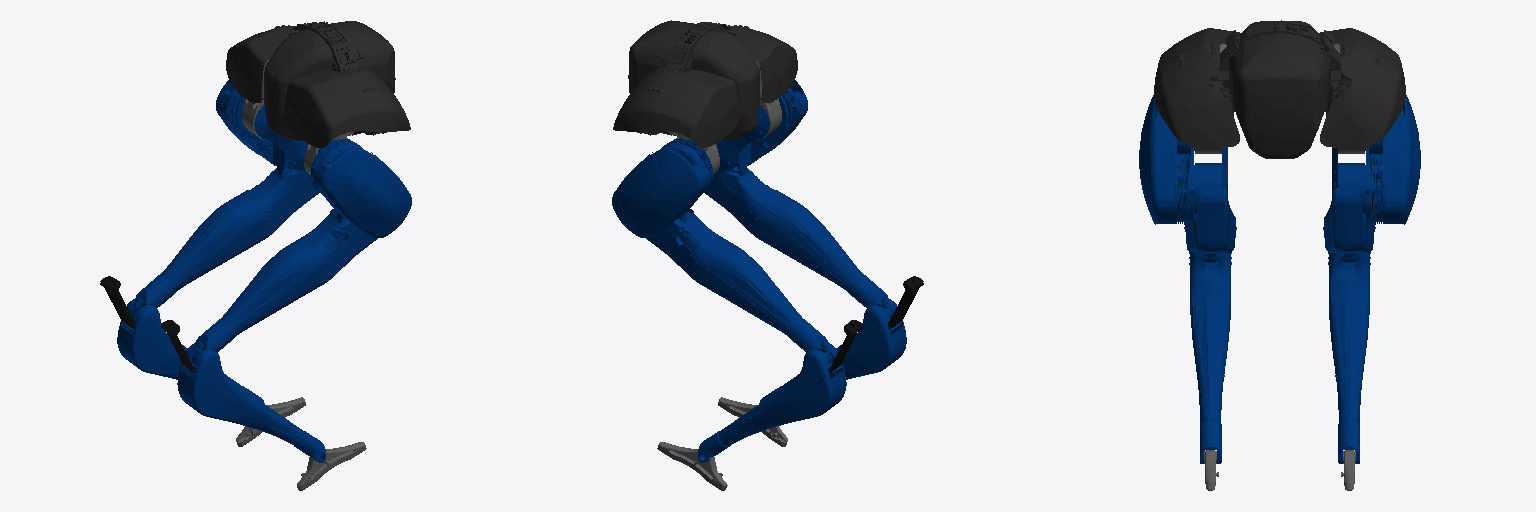
--- Render facts (derived) ---
3 views of the same robot in one strip: view 1: azimuth 30°, elevation 25°; view 2: azimuth 150°, elevation 25°; view 3: azimuth 270°, elevation 25° (orthographic).
Robot: cassie — 23 links, 22 joints (16 revolute, 6 fixed); root link pelvis; default pose: joints at zero except 8 at the middle of their limits (hip_pitch_left = 0.72, hip_pitch_right = 0.72, knee_left = -1.75, knee_right = -1.75, ankle_joint_left = 1.9, ankle_joint_right = 1.9, +2 more).
Links seen in each view (by area): view 1: pelvis, shin_left, shin_right, thigh_right, tarsus_right, tarsus_left, thigh_left, toe_right, toe_left, heel_spring_left, heel_spring_right; view 2: pelvis, shin_right, shin_left, thigh_left, tarsus_left, tarsus_right, thigh_right, toe_left, toe_right, heel_spring_right, heel_spring_left; view 3: pelvis, tarsus_left, tarsus_right, thigh_left, thigh_right, shin_left, shin_right, knee_left, knee_right.
Link boxes in pixels (box(x1,y1,x2,y2)): pelvis: box(226, 21, 410, 148); shin_left: box(132, 168, 319, 318); shin_right: box(192, 209, 377, 364); thigh_right: box(311, 139, 411, 237); tarsus_right: box(177, 343, 325, 462); tarsus_left: box(117, 299, 264, 403); thigh_left: box(216, 80, 307, 169); toe_right: box(297, 442, 366, 490); toe_left: box(236, 397, 305, 446); heel_spring_left: box(100, 276, 135, 329); heel_spring_right: box(161, 320, 195, 372); pelvis: box(613, 20, 797, 148); shin_right: box(704, 168, 891, 318); shin_left: box(646, 209, 831, 364); thigh_left: box(612, 139, 712, 237); tarsus_left: box(698, 343, 846, 462); tarsus_right: box(759, 299, 906, 403); thigh_right: box(716, 80, 807, 169); toe_left: box(657, 442, 727, 490); toe_right: box(718, 397, 787, 446); heel_spring_right: box(888, 276, 923, 329); heel_spring_left: box(828, 320, 862, 372); pelvis: box(1154, 20, 1405, 158); tarsus_left: box(1328, 252, 1370, 463); tarsus_right: box(1189, 252, 1231, 463); thigh_left: box(1332, 95, 1420, 224); thigh_right: box(1139, 95, 1227, 224); shin_left: box(1323, 187, 1375, 262); shin_right: box(1184, 187, 1236, 262); knee_left: box(1338, 163, 1364, 219); knee_right: box(1195, 163, 1221, 219).
Size in the robot's own frame: 0.6197 by 0.53 by 1.02 metres.
19 mesh visuals loaded from 14 distinct referenced files (14 OBJ).

The robot description file, URDF, robot "cassie":
<robot name="cassie">

    <link name="pelvis">
        <inertial>
            <origin
                    xyz=".05066 0.000346 .02841"
                    rpy="0 0 0" />
            <mass value="10.33" />
            <inertia
                    ixx=".094158"
                    ixy=".0001685"
                    ixz=".015026"
                    iyy=".084066"
                    iyz=".0005156"
                    izz=".112770" />
        </inertial>
        <visual>
            <origin
                    xyz="0 0 0"
                    rpy="1.570796 0 0" />
            <geometry>
                <mesh filename="meshes/agility/pelvis.obj" />
            </geometry>
            <material name="">
                <color
                        rgba="0.2 0.2 0.2 1.0" />
            </material>
        </visual>

        <collision>
            <geometry>
                <sphere radius="0.2"/>
            </geometry>
            <origin xyz="0.05 0 0" rpy="0 0 0" />
        </collision>
    </link>

    <link name="yaw_left">
        <inertial>
            <origin
                    xyz=".0257 0.0001 .0179"
                    rpy="0 -1.570796 0" />
            <mass value="1.82" />
            <inertia
                    ixx=".002722"
                    ixy=".000000703"
                    ixz=".00000153"
                    iyy=".005586"
                    iyz=".00000261"
                    izz=".004638" />
        </inertial>
        <visual>
            <origin
                    xyz="0 0 -0.07"
                    rpy="0 -1.570796 0" />
            <geometry>
                <mesh filename="meshes/agility/left_yaw.obj" />
            </geometry>
            <material name="">
                <color rgba="0.4 0.4 0.4 1" />
            </material>
        </visual>
    </link>

    <link name="yaw_right">
        <inertial>
            <origin
                    xyz=".0257 -0.0001 .0179"
                    rpy="0 -1.570796 0" />
            <mass value="1.82" />
            <inertia
                    ixx=".002722"
                    ixy="-.000000703"
                    ixz=".00000153"
                    iyy=".005586"
                    iyz="-.00000261"
                    izz=".004638" />
        </inertial>
        <visual>
            <origin
                    xyz="0 0 -0.07"
                    rpy="0 -1.570796 0" />
            <geometry>
                <mesh filename="meshes/agility/right_yaw.obj" />
            </geometry>
            <material name="">
                <color rgba="0.4 0.4 0.4 1" />
            </material>
        </visual>
    </link>

    <link name="hip_left">
        <inertial>
            <origin
                    xyz="-.05572 0 0.00001"
                    rpy="-1.570796 1.570796 0" />
            <mass value="1.171" />
            <inertia
                    ixx=".000842"
                    ixy=".0000002462"
                    ixz="-.0000006251"
                    iyy=".006076"
                    iyz="-.00000004"
                    izz=".006436" />
        </inertial>
        <visual>
            <origin
                    xyz="0 0 -0.09"
                    rpy="-1.570796 1.570796 0" />
            <geometry>
                <mesh filename="meshes/agility/left_hip.obj" />
            </geometry>
            <material name="">
                <color rgba="0.4 0.4 0.4 1" />
            </material>
        </visual>
    </link>

    <link name="hip_right">
        <inertial>
            <origin
                    xyz="-.05572 0 -0.00001"
                    rpy="-1.570796 1.570796 0" />
            <mass value="1.171" />
            <inertia
                    ixx=".000842"
                    ixy=".0000002462"
                    ixz=".0000006251"
                    iyy=".006076"
                    iyz=".00000004"
                    izz=".006436" />
        </inertial>
        <visual>
            <origin
                    xyz="0 0 -0.09"
                    rpy="-1.570796 1.570796 0" />
            <geometry>
                <mesh filename="meshes/agility/right_hip.obj" />
            </geometry>
            <material name="">
                <color rgba="0.4 0.4 0.4 1" />
            </material>
        </visual>
    </link>

    <link name="thigh_left">
        <inertial>
            <origin
                    xyz="0.05946 0.00005 -.03581"
                    rpy="0 0 0" />
            <mass value="5.52" />
            <inertia
                    ixx=".017969"
                    ixy=".0002836"
                    ixz="-.011685"
                    iyy=".056284"
                    iyz="-.00001926"
                    izz=".049756" />
        </inertial>
        <visual>
            <origin
                    xyz="0 0 0"
                    rpy="1.570796 0 0" />
            <geometry>
                <mesh filename="meshes/agility/hip-pitch.obj" />
            </geometry>
            <material name="">
                <color rgba="0.024 0.24 0.5 1.0" />
            </material>
        </visual>

    </link>

    <link name="thigh_right">
        <inertial>
            <origin
                    xyz="0.05946 0.00005 .03581"
                    rpy="0 0 0" />
            <mass value="5.52" />
            <inertia
                    ixx=".017969"
                    ixy=".0002836"
                    ixz=".011685"
                    iyy=".056284"
                    iyz=".00001926"
                    izz=".049756" />
        </inertial>
        <visual>
            <origin
                    xyz="0 0 0"
                    rpy="-1.570796 3.14159 0" />
            <geometry>
                <mesh filename="meshes/agility/hip-pitch.obj"
                 scale="-1 -1 -1"/>
            </geometry>
            <material name="">
                <color rgba="0.024 0.24 0.5 1.0" />
            </material>
        </visual>

    </link>

    <link name="knee_left">
        <inertial>
            <origin
                    xyz="0.023 0.03207 -0.002181"
                    rpy="0 0 0" />
            <mass value="0.7578" />
            <inertia
                    ixx=".002159"
                    ixy=".0009564"
                    ixz=".000002837"
                    iyy=".001438"
                    iyz=".000000739"
                    izz=".003344" />
        </inertial>
        <visual>
            <origin
                    xyz="0 0 0"
                    rpy="0 0 0" />
            <geometry>
                <mesh filename="meshes/knee-output.obj" />
            </geometry>
            <material name="">
                <color rgba="0.024 0.24 0.5 1.0" />
            </material>
        </visual>
    </link>

    <link name="knee_right">
        <inertial>
            <origin
                    xyz="0.023 0.03207 0.002181"
                    rpy="0 0 0" />
            <mass value="0.7578" />
            <inertia
                    ixx=".002159"
                    ixy=".0009564"
                    ixz=".000002837"
                    iyy=".001438"
                    iyz="-.000000739"
                    izz=".003344" />
        </inertial>
        <visual>
            <origin
                    xyz="0 0 0"
                    rpy="0 0 0" />
            <geometry>
                <mesh filename="meshes/knee-output-r.obj" />
            </geometry>
            <material name="">
                <color rgba="0.024 0.24 0.5 1.0" />
            </material>
        </visual>
    </link>

    <link name="shin_left">
        <inertial>
            <origin
                    xyz=".18338 0.001169 0.0002123"
                    rpy="0 0 0" />
            <mass value="0.5771" />
            <inertia
                    ixx=".0003602"
                    ixy=".0003335"
                    ixz="-.0000001941"
                    iyy=".034132"
                    iyz=".0000002652"
                    izz=".034111" />
        </inertial>

        <visual>
          <origin
            xyz="0 0 0"
            rpy="1.570796 0 0" />
          <geometry>
            <mesh filename="meshes/agility/shin.obj" />
          </geometry>
          <material name="">
            <color rgba="0.024 0.24 0.5 1.0" />
          </material>
        </visual>

        <collision>
            <origin xyz="0.2 0.0 0.0" rpy="0 1.57 0"/>
            <geometry>
                <cylinder radius="0.025" length="0.4"/>
            </geometry>
        </collision>

    </link>

    <link name="shin_right">
        <inertial>
            <origin
                    xyz=".18338 0.001169 -0.0002123"
                    rpy="0 0 0" />
            <mass value="0.5771" />
            <inertia
                    ixx=".0003602"
                    ixy=".000334"
                    ixz=".0000001941"
                    iyy=".034132"
                    iyz="-.0000002652"
                    izz=".034111" />
        </inertial>

        <visual>
          <origin
            xyz="0 0 0"
            rpy="-1.570796 3.14159 0" />
          <geometry>
            <mesh filename="meshes/agility/shin.obj"
            scale="-1 -1 -1"/>
          </geometry>
          <material name="">
            <color rgba="0.024 0.24 0.5 1.0" />
          </material>
        </visual>

        <collision>
            <origin xyz="0.2 0.0 0.0" rpy="0 1.57 0"/>
            <geometry>
                <cylinder radius="0.025" length="0.4"/>
            </geometry>
        </collision>

    </link>

    <link name="knee_spring_left">
        <inertial>
            <origin
                    xyz=".08364 0.003427 0.0"
                    rpy="0 0 0" />
            <mass value="0.1864" />
            <inertia
                    ixx=".0000543"
                    ixy=".00004601"
                    ixz="0.0"
                    iyy=".001712"
                    iyz="0.0"
                    izz=".001669" />
        </inertial>
        <visual>
            <origin
                    xyz="0 0 0"
                    rpy="0 0 0" />
            <geometry>
                <mesh filename="meshes/knee-spring.obj" />
            </geometry>
            <material name="">
                <color rgba="0.1 0.1 0.1 1" />
            </material>
        </visual>
    </link>

    <link name="knee_spring_right">
        <inertial>
            <origin
                    xyz=".08364 0.003427 0.0"
                    rpy="0 0 0" />
            <mass value="0.1864" />
            <inertia
                    ixx=".0000543"
                    ixy=".00004601"
                    ixz="0.0"
                    iyy=".001712"
                    iyz="0.0"
                    izz=".001669" />
        </inertial>
        <visual>
            <origin
                    xyz="0 0 0"
                    rpy="0 0 0" />
            <geometry>
                <mesh filename="meshes/knee-spring.obj" />
            </geometry>
            <material name="">
                <color rgba="0.1 0.1 0.1 1" />
            </material>
        </visual>
    </link>

    <link name="tarsus_left">
        <inertial>
            <origin
                    xyz=".11046 -.03058 -.00131"
                    rpy="0 0 0" />
            <mass value="0.782" />
            <inertia
                    ixx=".001125"
                    ixy="-.002878"
                    ixz="-.00006329"
                    iyy=".023138"
                    iyz=".00003615"
                    izz=".023947" />
        </inertial>

        <visual>
          <origin
            xyz="0 0 0"
            rpy="1.570796 0 0" />
          <geometry>
            <mesh filename="meshes/agility/tarsus.obj" />
          </geometry>
          <material name="">
            <color rgba="0.024 0.24 0.5 1.0" />
          </material>
        </visual>

        <collision>
            <origin xyz="0.2 0.0 0.0" rpy="0 1.57 0"/>
            <geometry>
                <cylinder radius="0.025" length="0.4"/>
            </geometry>
        </collision>
    </link>

    <link name="tarsus_right">
        <inertial>
            <origin
                    xyz=".11046 -.03058 -.00131"
                    rpy="0 0 0" />
            <mass value="0.782" />
            <inertia
                    ixx=".001125"
                    ixy="-.002878"
                    ixz=".00006329"
                    iyy=".023138"
                    iyz="-.00003615"
                    izz=".023947" />
        </inertial>

        <visual>
          <origin
            xyz="0 0 0"
            rpy="1.570796 0 3.14159" />
          <geometry>
            <mesh filename="meshes/agility/tarsus.obj"
            scale="-1 -1 -1"/>
          </geometry>
          <material name="">
            <color rgba="0.024 0.24 0.5 1.0" />
          </material>
        </visual>

        <collision>
            <origin xyz="0.2 0.0 0.0" rpy="0 1.57 0"/>
            <geometry>
                <cylinder radius="0.025" length="0.4"/>
            </geometry>
        </collision>

    </link>

    <link name="heel_spring_left">
        <inertial>
            <origin
                    xyz="0.08097 0.00223 -0.0000385"
                    rpy="0 0 0" />
            <mass value="0.1259" />
            <inertia
                    ixx=".00003016"
                    ixy=".00001528"
                    ixz=".000000575"
                    iyy=".001049"
                    iyz="-.0000000557"
                    izz=".001028" />
        </inertial>
        <visual>
            <origin
                    xyz="0 0 0"
                    rpy="0 0 0" />
            <geometry>
                <mesh filename="meshes/heel-spring.obj" />
            </geometry>
            <material name="">
                <color rgba="0.1 0.1 0.1 1" />
            </material>
        </visual>
    </link>

    <link name="heel_spring_right">
        <inertial>
            <origin
                    xyz="0.08097 0.00223 -0.0000385"
                    rpy="0 0 0" />
            <mass value="0.1259" />
            <inertia
                    ixx=".00003016"
                    ixy=".00001528"
                    ixz=".000000575"
                    iyy=".001049"
                    iyz="-.0000000557"
                    izz=".001028" />
        </inertial>
        <visual>
            <origin
                    xyz="0 0 0"
                    rpy="0 0 0" />
            <geometry>
                <mesh filename="meshes/heel-spring.obj" />
            </geometry>
            <material name="">
                <color rgba="0.1 0.1 0.1 1" />
            </material>
        </visual>
    </link>

    <!--
        **************************************************************
        lumped masses for the foot crank and plantar rods-attaching them
        to the foot at the heel location
        **************************************************************
    -->
    <link name="foot_crank_mass_left">
        <inertial>
            <mass value="0.129"/>
        </inertial>
    </link>

    <link name="foot_crank_mass_right">
        <inertial>
            <mass value="0.129"/>
        </inertial>
    </link>

    <link name="plantar_rod_mass_left">
        <inertial>
            <mass value="0.1186"/>
        </inertial>
    </link>

    <link name="plantar_rod_mass_right">
        <inertial>
            <mass value="0.1186"/>
        </inertial>
    </link>

    <link name="toe_left">
        <inertial>
            <origin
                    xyz="0.00474 0.02748 -0.00014"
                    rpy="0 0 0" />
            <mass value="0.1498" />
            <inertia
                    ixx=".000287"
                    ixy="-.00009863"
                    ixz="-.000001456"
                    iyy=".0001713"
                    iyz=".0000001716"
                    izz=".0004491" />
        </inertial>

        <visual>
          <origin
            xyz="0 0 0"
            rpy="0 0 0" />
          <geometry>
            <mesh filename="meshes/agility/left_foot.obj" />
          </geometry>
          <material name="">
            <color rgba="0.4 0.4 0.4 1" />
          </material>
        </visual>

        <collision>
            <geometry>
                <box size="0.1 0.03 0.03"/>
            </geometry>
            <origin xyz="0.0 0.0 0.0" rpy="0.0 0.0 -0.7"/>
        </collision>

        <!-- Toe spheres -->
        <visual>
            <geometry>
                <sphere radius="0.001"/>
            </geometry>
            <origin xyz="-0.0457 .112 0" rpy="0 0 0"/>
        </visual>
        <collision>
            <geometry>
                <sphere radius="0.001"/>
            </geometry>
            <origin xyz="-0.0457 .112 0" rpy="0 0 0"/>
        </collision>
        <visual>
            <geometry>
                <sphere radius="0.001"/>
            </geometry>
            <origin xyz="0.088 0 0" rpy="0 0 0"/>
        </visual>
        <collision>
            <geometry>
                <sphere radius="0.001"/>
            </geometry>
            <origin xyz="0.088 0 0" rpy="0 0 0"/>
        </collision>
    </link>

    <link name="toe_right">
        <inertial>
            <origin
                    xyz="0.00474 0.02748 0.00014"
                    rpy="0 0 0" />
            <mass value="0.1498" />
            <inertia
                    ixx=".000287"
                    ixy="-.00009863"
                    ixz=".000001456"
                    iyy=".0001713"
                    iyz="-.0000001716"
                    izz=".0004491" />
        </inertial>

        <visual>
          <origin
            xyz="0 0 0"
            rpy="0 0 0" />
          <geometry>
            <mesh filename="meshes/agility/right_foot.obj" />
          </geometry>
          <material name="">
            <color rgba="0.4 0.4 0.4 1" />
          </material>
        </visual>

        <!-- Toe spheres -->
        <visual>
            <geometry>
                <sphere radius="0.001"/>
            </geometry>
            <origin xyz="-0.0457 .112 0" rpy="0 0 0"/>
        </visual>
        <collision>
            <geometry>
                <sphere radius="0.001"/>
            </geometry>
            <origin xyz="-0.0457 .112 0" rpy="0 0 0"/>
        </collision>
        <visual>
            <geometry>
                <sphere radius="0.001"/>
            </geometry>
            <origin xyz="0.088 0 0" rpy="0 0 0"/>
        </visual>
        <collision>
            <geometry>
                <sphere radius="0.001"/>
            </geometry>
            <origin xyz="0.088 0 0" rpy="0 0 0"/>
        </collision>

        <collision>
            <geometry>
                <box size="0.1 0.03 0.03"/>
            </geometry>
            <origin xyz="0.0 0.0 0.0" rpy="0.0 0.0 -0.7"/>
        </collision>
    </link>



    <!-- JOINTS ||| JOINTS ||| JOINTS ||| JOINTS ||| JOINTS |||-->
    <!-- JOINTS ||| JOINTS ||| JOINTS ||| JOINTS ||| JOINTS |||-->
    <!-- JOINTS ||| JOINTS ||| JOINTS ||| JOINTS ||| JOINTS |||-->
    <!-- JOINTS ||| JOINTS ||| JOINTS ||| JOINTS ||| JOINTS |||-->
    <!-- JOINTS ||| JOINTS ||| JOINTS ||| JOINTS ||| JOINTS |||-->
    <!-- JOINTS ||| JOINTS ||| JOINTS ||| JOINTS ||| JOINTS |||-->
    <!-- JOINTS ||| JOINTS ||| JOINTS ||| JOINTS ||| JOINTS |||-->
    <!-- JOINTS ||| JOINTS ||| JOINTS ||| JOINTS ||| JOINTS |||-->
    <!-- JOINTS ||| JOINTS ||| JOINTS ||| JOINTS ||| JOINTS |||-->
    <!-- JOINTS ||| JOINTS ||| JOINTS ||| JOINTS ||| JOINTS |||-->


    <joint name="hip_roll_left" type="revolute">
        <origin xyz=".021 .135 0" rpy="0 1.570796 0" />
        <parent link="pelvis" />
        <child link="yaw_left" />
        <axis xyz="0 0 1" />
        <limit lower="-0.11" upper="0.2" effort="90"/>
        <dynamics damping="1" />
    </joint>

    <joint name="hip_roll_right" type="revolute">
        <origin xyz=".021 -.135 0" rpy="0 1.570796 0" />
        <parent link="pelvis" />
        <child link="yaw_right" />
        <axis xyz="0 0 1" />
        <limit lower="-0.11" upper="0.2" effort="90"/>
        <dynamics damping="1" />
    </joint>


    <joint name="hip_yaw_left" type="revolute">
        <origin xyz="0 0 -0.07" rpy="0 -1.570796 0" />
        <parent link="yaw_left" />
        <child link="hip_left" />
        <axis xyz="0 0 1" />
        <limit lower="-0.235" upper="0.235" effort="60"/>
        <dynamics damping="1" />
    </joint>

    <joint name="hip_yaw_right" type="revolute">
        <origin xyz="0 0 -0.07" rpy="0 -1.570796 0" />
        <parent link="yaw_right" />
        <child link="hip_right" />
        <axis xyz="0 0 1" />
        <limit lower="-0.235" upper="0.235" effort="60"/>
        <dynamics damping="1" />
    </joint>


    <joint name="hip_pitch_left" type="revolute">
        <origin xyz="0 0 -0.09" rpy="1.570796 1.570796 0" />
        <parent link="hip_left" />
        <child link="thigh_left" />
        <axis xyz="0 0 1" />
        <limit lower="0.2" upper="1.24" effort="90"/>
        <dynamics damping="1" />
    </joint>

    <joint name="hip_pitch_right" type="revolute">
        <origin xyz="0 0 -0.09" rpy="1.570796 1.570796 0" />
        <parent link="hip_right" />
        <child link="thigh_right" />
        <axis xyz="0 0 1" />
        <!--        <limit lower="-0.72" upper="1.24" effort="300"/>-->
        <limit lower="0.2" upper="1.24" effort="90"/>
        <dynamics damping="1" />
    </joint>

    <joint name="knee_left" type="revolute">
        <origin xyz="0.12 0 0.0045" rpy="0 0 0" />
        <parent link="thigh_left" />
        <child link="knee_left" />
        <axis xyz="0 0 1" />
        <limit lower="-2.862" upper="-0.646" effort="200"/>
        <dynamics damping="1" />
    </joint>

    <joint name="knee_right" type="revolute">
        <origin xyz="0.12 0 -0.0045" rpy="0 0 0" />
        <parent link="thigh_right" />
        <child link="knee_right" />
        <axis xyz="0 0 1" />
        <limit lower="-2.862" upper="-0.646" effort="200"/>
        <dynamics damping="1" />
    </joint>


    <joint name="foot_crank_mass_left" type="fixed">
        <origin xyz=".055 0 .00776"/>
        <parent link="toe_left" />
        <child link="foot_crank_mass_left" />
    </joint>

    <joint name="foot_crank_mass_right" type="fixed">
        <origin xyz=".055 0 -.00776"/>
        <parent link="toe_right" />
        <child link="foot_crank_mass_right" />
    </joint>

    <joint name="plantar_rod_mass_left" type="fixed">
        <origin xyz=".055 0 .00776"/>
        <parent link="toe_left" />
        <child link="plantar_rod_mass_left" />
    </joint>

    <joint name="plantar_rod_mass_right" type="fixed">
        <origin xyz=".055 0 -.00776"/>
        <parent link="toe_right" />
        <child link="plantar_rod_mass_right" />
    </joint>

    <joint name="knee_joint_left" type="revolute">
        <origin xyz="0.06068 0.04741 0" rpy="0 0 0" />
        <parent link="knee_left" />
        <child link="shin_left" />
        <axis xyz="0 0 1" />
        <limit lower="-.1" upper="0.075"/>
        <dynamics damping=".1" />
    </joint>

    <joint name="knee_joint_right" type="revolute">
        <origin xyz="0.06068 0.04741 0" rpy="0 0 0" />
        <parent link="knee_right" />
        <child link="shin_right" />
        <axis xyz="0 0 1" />
        <limit lower="-.1" upper="0.075"/>
        <dynamics damping=".1" />
    </joint>


    <joint name="knee_spring_left_fixed" type="fixed">
        <origin xyz="0.06068 0.08241 0" rpy="0 0 0" />
        <parent link="knee_left" />
        <child link="knee_spring_left" />
    </joint>

    <joint name="knee_spring_right_fixed" type="fixed">
        <origin xyz="0.06068 0.08241 0" rpy="0 0 0" />
        <parent link="knee_right" />
        <child link="knee_spring_right" />
    </joint>


    <joint name="ankle_joint_left" type="revolute">
        <origin xyz="0.43476 0.02 0" rpy="0 0 0" />
        <parent link="shin_left" />
        <child link="tarsus_left" />
        <axis xyz="0 0 1" />
        <limit lower=".8" upper="3"/>
        <dynamics damping="0.1" />
    </joint>

    <joint name="ankle_joint_right" type="revolute">
        <origin xyz="0.43476 0.02 0" rpy="0 0 0" />
        <parent link="shin_right" />
        <child link="tarsus_right" />
        <axis xyz="0 0 1" />
        <limit lower=".8" upper="3"/>
        <dynamics damping="0.1" />
    </joint>

    <!-- rpy="-0.0689 -0.0370 2.7208"-->
    <joint name="ankle_spring_joint_left" type="revolute">
        <origin xyz="-.01269 -.03059 .00092" rpy="0.0780 0.00549 2.7192" />
        <parent link="tarsus_left" />
        <child link="heel_spring_left" />
        <limit lower="-.1" upper="0.1"/>
        <axis xyz="0 0 1" />
        <dynamics damping="10" /> <!-- made up value -->
    </joint>

    <!-- rpy="0.0734 0.0269 2.7201"-->
    <joint name="ankle_spring_joint_right" type="revolute">
        <origin xyz="-.01269 -.03059 -.00092" rpy="-0.0780 -0.00549 2.7192" />
        <parent link="tarsus_right" />
        <child link="heel_spring_right" />
        <limit lower="-.1" upper="0.1"/>
        <axis xyz="0 0 1" />
        <dynamics damping="10" /> <!-- made up value -->
    </joint>


    <joint name="toe_left" type="revolute">
        <origin xyz="0.408 -0.040 0" rpy="0 0 0" />
        <parent link="tarsus_left" />
        <child link="toe_left" />
        <axis xyz="0 0 1" />
        <limit lower="-2.0" upper="-0.74" effort="40"/>
        <dynamics damping="1" />
    </joint>

    <joint name="toe_right" type="revolute">
        <origin xyz="0.408 -0.040 0" rpy="0 0 0" />
        <parent link="tarsus_right" />
        <child link="toe_right" />
        <axis xyz="0 0 1" />
        <limit lower="-2.0" upper="-0.74" effort="40"/>
        <dynamics damping="1" />
    </joint>

    <!-- MOTORS ||| MOTORS ||| MOTORS ||| MOTORS ||| MOTORS |||-->
    <!-- MOTORS ||| MOTORS ||| MOTORS ||| MOTORS ||| MOTORS |||-->
    <!-- MOTORS ||| MOTORS ||| MOTORS ||| MOTORS ||| MOTORS |||-->
    <!-- MOTORS ||| MOTORS ||| MOTORS ||| MOTORS ||| MOTORS |||-->
    <!-- MOTORS ||| MOTORS ||| MOTORS ||| MOTORS ||| MOTORS |||-->
    <!-- MOTORS ||| MOTORS ||| MOTORS ||| MOTORS ||| MOTORS |||-->
    <!-- MOTORS ||| MOTORS ||| MOTORS ||| MOTORS ||| MOTORS |||-->
    <!-- MOTORS ||| MOTORS ||| MOTORS ||| MOTORS ||| MOTORS |||-->
    <!-- MOTORS ||| MOTORS ||| MOTORS ||| MOTORS ||| MOTORS |||-->
    <!-- MOTORS ||| MOTORS ||| MOTORS ||| MOTORS ||| MOTORS |||-->

    <transmission name="hip_roll_left_trans" type="transmission_interface/SimpleTransmission">
        <actuator name="hip_roll_left_motor"/>
        <joint name="hip_roll_left"/>
        <mechanicalReduction>1</mechanicalReduction>
    </transmission>

    <transmission name="hip_roll_right_trans" type="transmission_interface/SimpleTransmission">
        <actuator name="hip_roll_right_motor"/>
        <joint name="hip_roll_right"/>
        <mechanicalReduction>1</mechanicalReduction>
    </transmission>

    <transmission name="hip_yaw_left_trans" type="transmission_interface/SimpleTransmission">
        <actuator name="hip_yaw_left_motor"/>
        <joint name="hip_yaw_left"/>
        <mechanicalReduction>1</mechanicalReduction>
    </transmission>

    <transmission name="hip_yaw_right_trans" type="transmission_interface/SimpleTransmission">
        <actuator name="hip_yaw_right_motor"/>
        <joint name="hip_yaw_right"/>
        <mechanicalReduction>1</mechanicalReduction>
    </transmission>

    <transmission name="hip_pitch_left_trans" type="transmission_interface/SimpleTransmission">
        <actuator name="hip_pitch_left_motor"/>
        <joint name="hip_pitch_left"/>
        <mechanicalReduction>1</mechanicalReduction>
    </transmission>

    <transmission name="hip_pitch_right_trans" type="transmission_interface/SimpleTransmission">
        <actuator name="hip_pitch_right_motor"/>
        <joint name="hip_pitch_right"/>
        <mechanicalReduction>1</mechanicalReduction>
    </transmission>

    <transmission name="knee_left_trans" type="transmission_interface/SimpleTransmission">
        <actuator name="knee_left_motor"/>
        <joint name="knee_left"/>
        <mechanicalReduction>1</mechanicalReduction>
    </transmission>

    <transmission name="knee_right_trans" type="transmission_interface/SimpleTransmission">
        <actuator name="knee_right_motor"/>
        <joint name="knee_right"/>
        <mechanicalReduction>1</mechanicalReduction>
    </transmission>

    <transmission name="toe_left_trans" type="transmission_interface/SimpleTransmission">
        <actuator name="toe_left_motor"/>
        <joint name="toe_left"/>
        <mechanicalReduction>1</mechanicalReduction>
    </transmission>

    <transmission name="toe_right_trans" type="transmission_interface/SimpleTransmission">
        <actuator name="toe_right_motor"/>
        <joint name="toe_right"/>
        <mechanicalReduction>1</mechanicalReduction>
    </transmission>

    <!-- SPRINGS ||| SPRINGS ||| SPRINGS ||| SPRINGS ||| SPRINGS |||-->
    <!-- SPRINGS ||| SPRINGS ||| SPRINGS ||| SPRINGS ||| SPRINGS |||-->
    <!-- SPRINGS ||| SPRINGS ||| SPRINGS ||| SPRINGS ||| SPRINGS |||-->
    <!-- SPRINGS ||| SPRINGS ||| SPRINGS ||| SPRINGS ||| SPRINGS |||-->
    <!-- SPRINGS ||| SPRINGS ||| SPRINGS ||| SPRINGS ||| SPRINGS |||-->
    <!-- SPRINGS ||| SPRINGS ||| SPRINGS ||| SPRINGS ||| SPRINGS |||-->
    <!-- SPRINGS ||| SPRINGS ||| SPRINGS ||| SPRINGS ||| SPRINGS |||-->
    <!-- SPRINGS ||| SPRINGS ||| SPRINGS ||| SPRINGS ||| SPRINGS |||-->
    <!-- SPRINGS ||| SPRINGS ||| SPRINGS ||| SPRINGS ||| SPRINGS |||-->
    <!-- SPRINGS ||| SPRINGS ||| SPRINGS ||| SPRINGS ||| SPRINGS |||-->

    <!-- Real springs -->
    <force_element name="left_knee_spring">
        <torsional_spring stiffness="2300" rest_angle="0" >
            <joint name="knee_joint_left" />
        </torsional_spring>
    </force_element>

    <force_element name="left_ankle_spring">
        <torsional_spring stiffness="2000" rest_angle="0">
            <joint name="ankle_spring_joint_left" />
        </torsional_spring>
    </force_element>

    <force_element name="right_knee_spring">
        <torsional_spring stiffness="2300" rest_angle="0" >
            <joint name="knee_joint_right" />
        </torsional_spring>
    </force_element>

    <force_element name="right_ankle_spring">
        <torsional_spring stiffness="2000" rest_angle="0">
            <joint name="ankle_spring_joint_right" />
        </torsional_spring>
    </force_element>

</robot>
